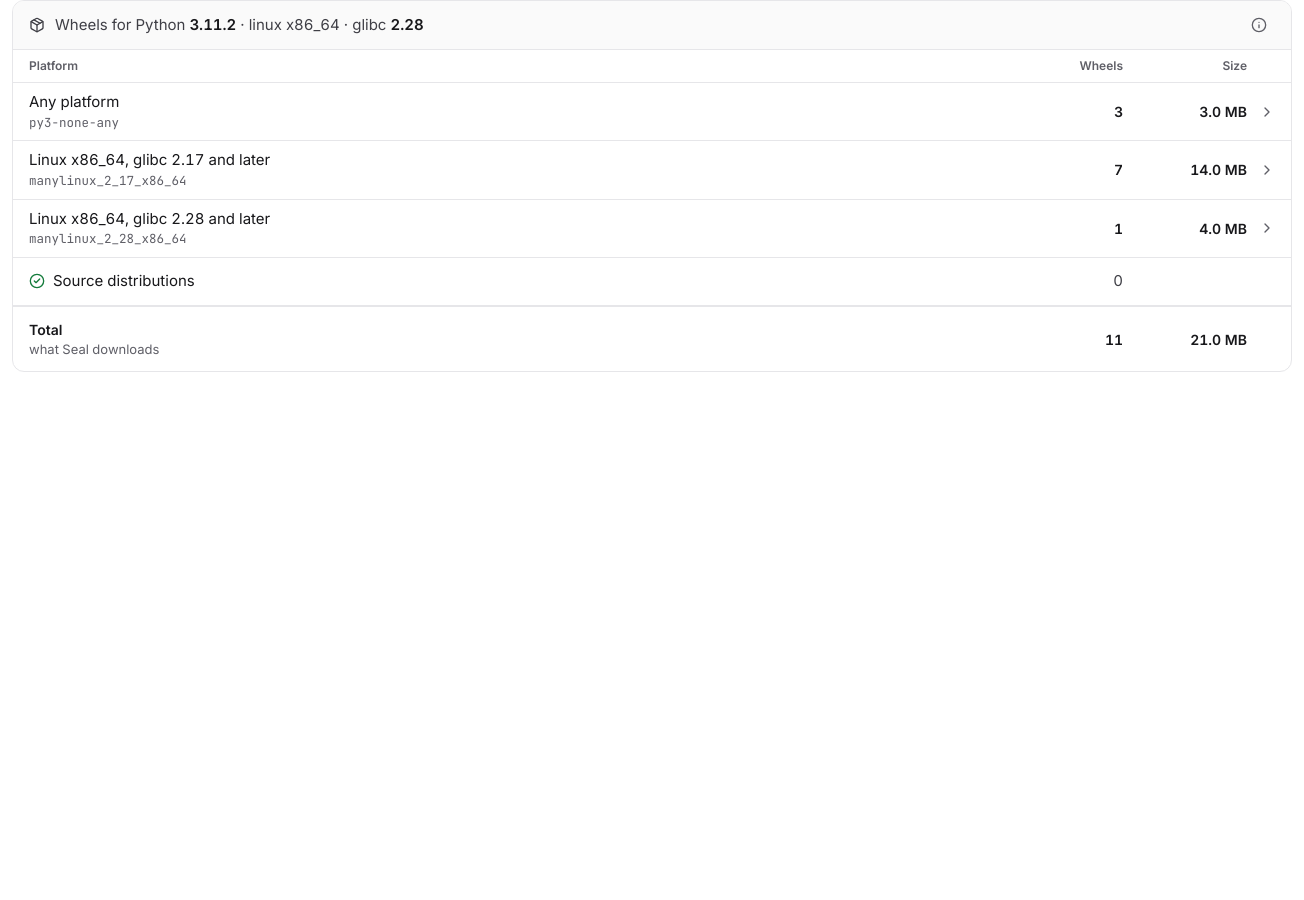
Test: the wheels block › opens a platform's wheels, 5 then Show all
Click the button "Linux x86_64, glibc 2.17 and later". click: (150, 160)
box: left=13, top=141, right=1291, bottom=199
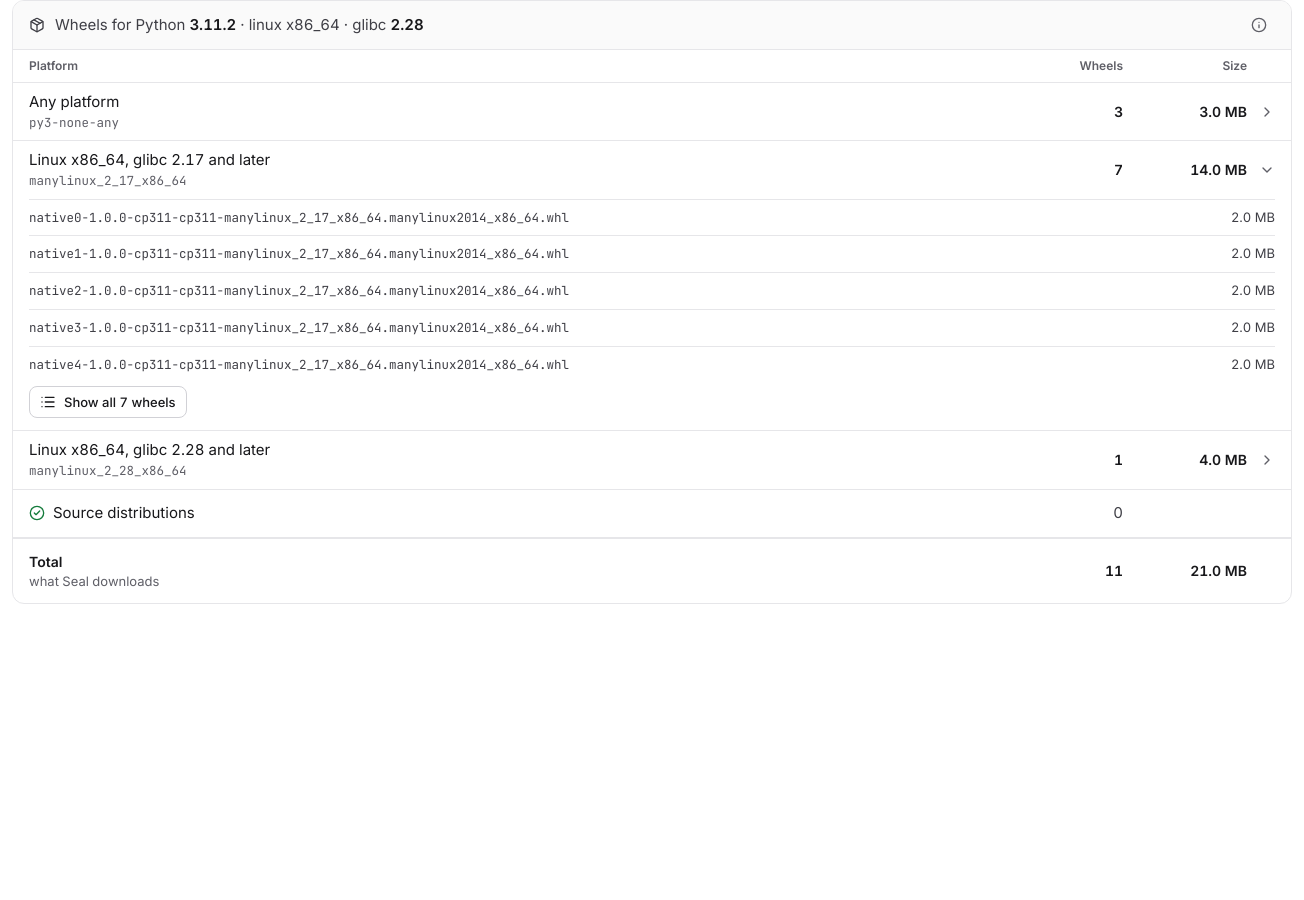
Check: the button "Linux x86_64, glibc 2.17 and later" is expanded, box left=13, top=141, right=1291, bottom=199
Check: the 2nd list item shows "2.0 MB", box left=1231, top=208, right=1275, bottom=224
Click the button "Show all 7 wheels". click: (108, 402)
box: left=29, top=386, right=187, bottom=418
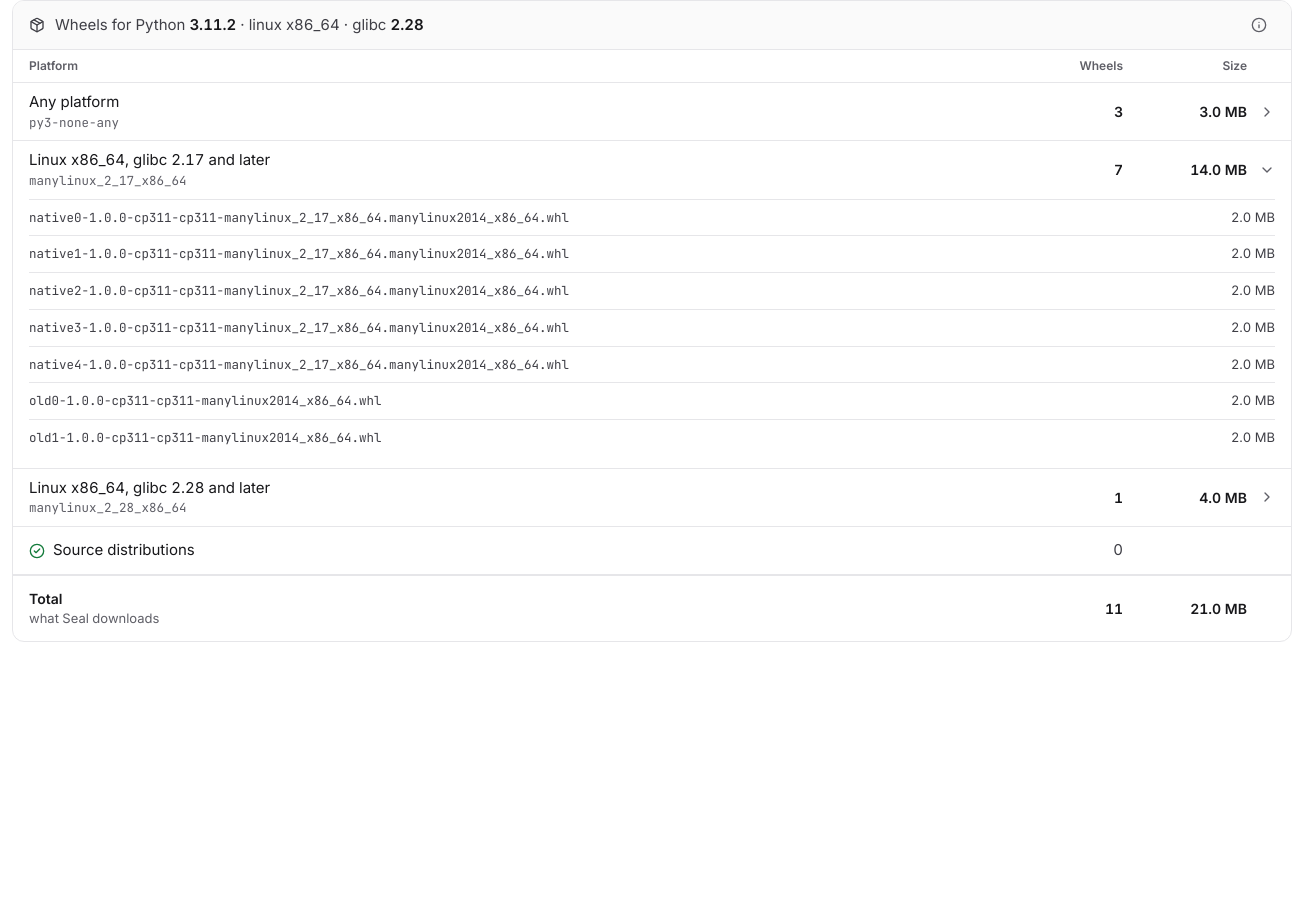
Check: the button "Show all" is gone
Click the button "Linux x86_64, glibc 2.17 and later". click: (150, 160)
box: left=13, top=141, right=1291, bottom=199
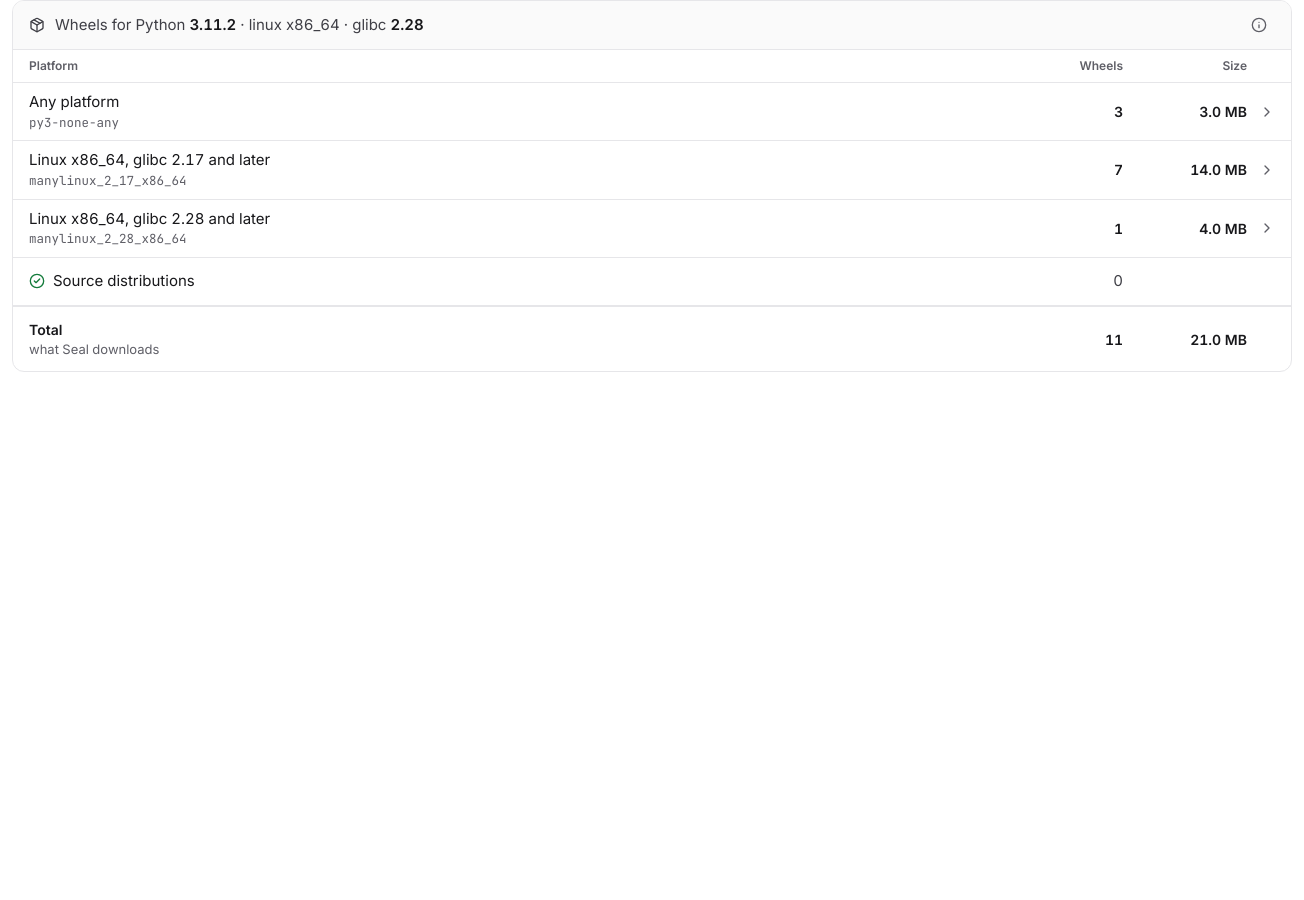
Check: the button "Linux x86_64, glibc 2.17 and later" is collapsed, box left=13, top=141, right=1291, bottom=199
